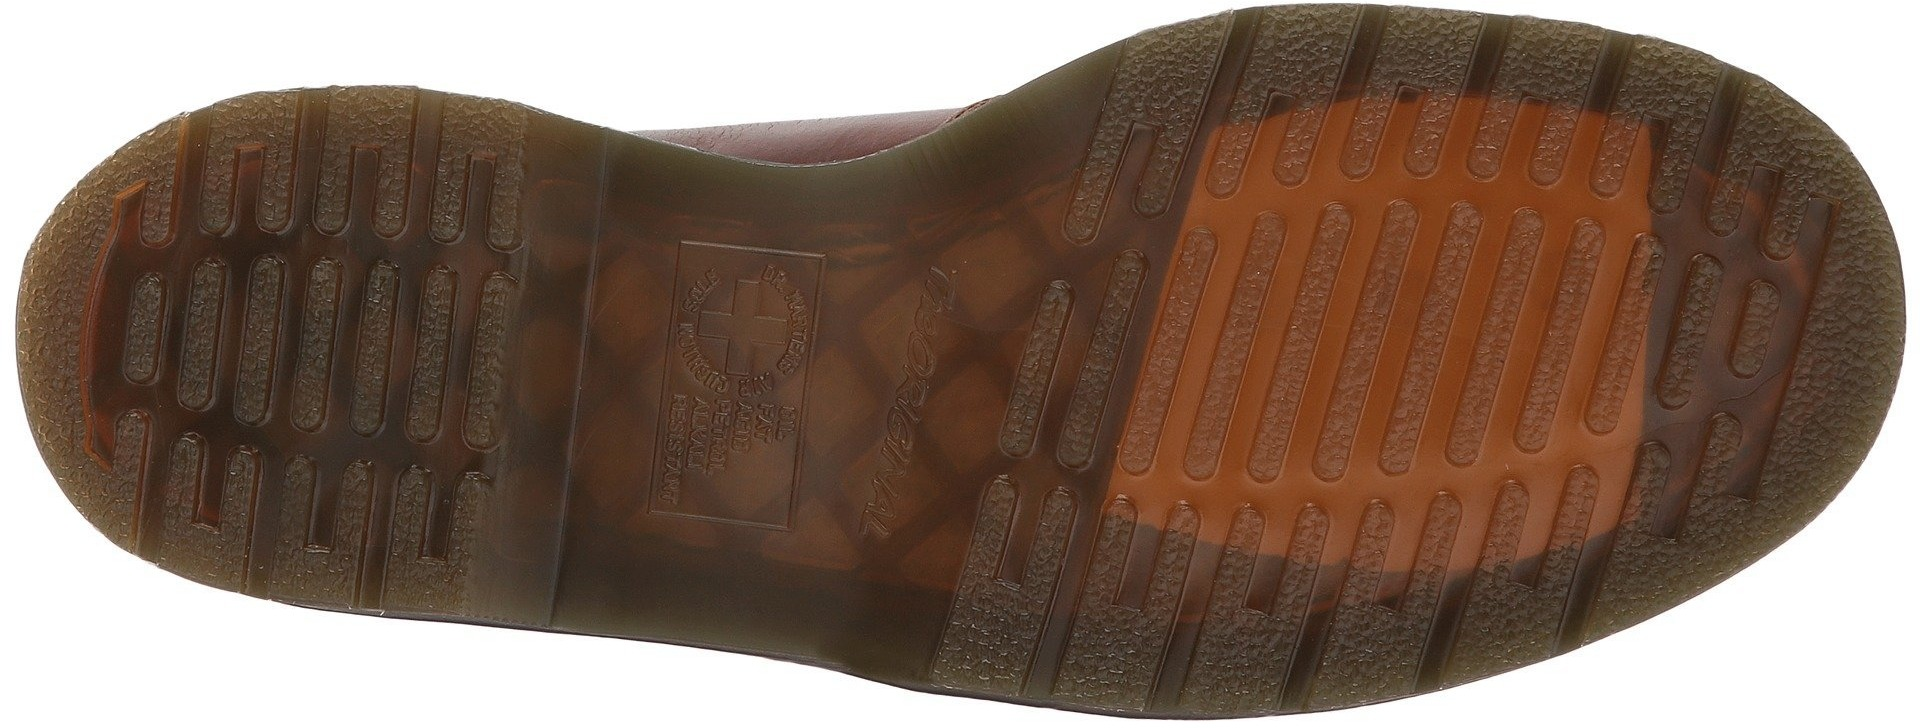exclude: (456, 22, 1138, 707)
quad: (1371, 150, 1695, 492), (1060, 223, 1371, 527), (105, 213, 337, 470)
